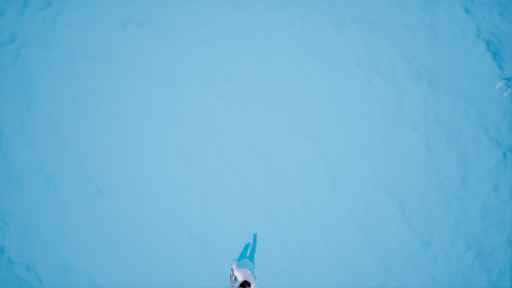person: (222, 218, 267, 288)
